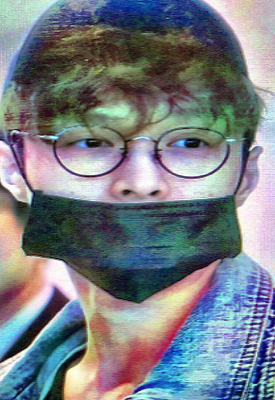mask_weared_incorrect: (19, 107, 243, 304)
